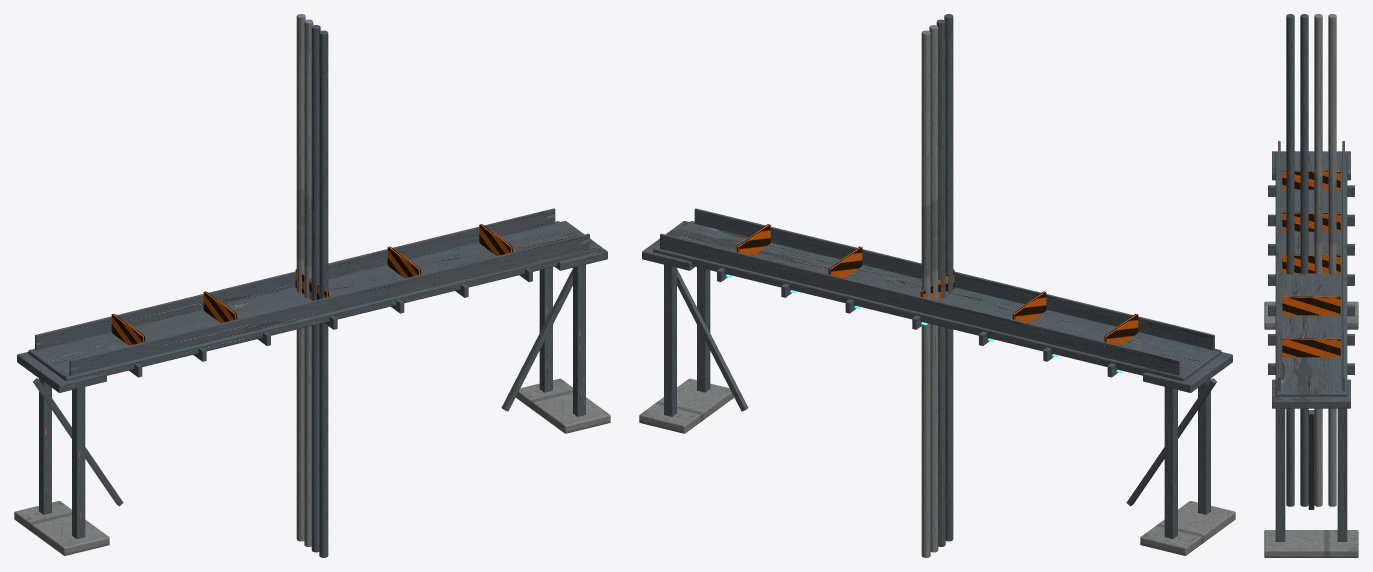
The model's file is overhead_gantry.glb.
The picture shows the model from 3 angles, left to right: view 1: azimuth 30°, elevation 25°; view 2: azimuth 150°, elevation 25°; view 3: azimuth 270°, elevation 25°; orthographic projection. The views are drawn at different scales.
Parts seen in each view (by area): view 1: BridgeDeck, BridgeRail_1.3, BridgeRail_-1.3, OverheadPipe_0.85, OverheadPipe_0.28, OverheadPipe_-0.85, OverheadPipe_-0.28, GantryFoot_-10.9, GantryFoot_10.9, GantryColumn_-10.91.25, GantryColumn_10.91.25, GantryColumn_-10.9-1.25 (+5 smaller); view 2: BridgeDeck, BridgeRail_-1.3, BridgeRail_1.3, OverheadPipe_-0.85, OverheadPipe_-0.28, OverheadPipe_0.85, OverheadPipe_0.28, GantryFoot_-10.9, GantryFoot_10.9, GantryColumn_-10.9-1.25, GantryColumn_10.9-1.25, GantryColumn_-10.91.25 (+5 smaller); view 3: BridgeDeck, OverheadPipe_-0.28, OverheadPipe_-0.85, OverheadPipe_0.28, OverheadPipe_0.85, GantryFoot_10.9, GantryColumn_10.9-1.25, GantryColumn_10.91.25, PipeBrace_4, PipeBrace_8, GantryTowerCap_10.9, BridgeRail_-1.3 (+14 smaller).
Boxes of the visible parts, bbox=[...] form: BridgeDeck: bbox=[28, 221, 596, 381]; BridgeRail_1.3: bbox=[69, 233, 589, 375]; BridgeRail_-1.3: bbox=[35, 208, 555, 350]; OverheadPipe_0.85: bbox=[319, 30, 328, 557]; OverheadPipe_0.28: bbox=[311, 25, 320, 552]; OverheadPipe_-0.85: bbox=[296, 14, 305, 541]; OverheadPipe_-0.28: bbox=[304, 19, 313, 546]; GantryFoot_-10.9: bbox=[14, 501, 109, 555]; GantryFoot_10.9: bbox=[515, 378, 610, 433]; GantryColumn_-10.91.25: bbox=[72, 387, 85, 538]; GantryColumn_10.91.25: bbox=[573, 264, 585, 416]; GantryColumn_-10.9-1.25: bbox=[39, 378, 51, 514]; BridgeDeck: bbox=[653, 221, 1221, 381]; BridgeRail_-1.3: bbox=[660, 233, 1180, 375]; BridgeRail_1.3: bbox=[694, 208, 1214, 350]; OverheadPipe_-0.85: bbox=[921, 30, 930, 557]; OverheadPipe_-0.28: bbox=[929, 25, 938, 552]; OverheadPipe_0.85: bbox=[944, 14, 953, 541]; OverheadPipe_0.28: bbox=[936, 19, 945, 546]; GantryFoot_-10.9: bbox=[1140, 501, 1235, 555]; GantryFoot_10.9: bbox=[639, 378, 734, 433]; GantryColumn_-10.9-1.25: bbox=[1164, 387, 1177, 538]; GantryColumn_10.9-1.25: bbox=[664, 264, 676, 416]; GantryColumn_-10.91.25: bbox=[1198, 378, 1210, 514]; BridgeDeck: bbox=[1275, 152, 1347, 396]; OverheadPipe_-0.28: bbox=[1314, 14, 1322, 506]; OverheadPipe_-0.85: bbox=[1328, 14, 1336, 506]; OverheadPipe_0.28: bbox=[1300, 14, 1308, 506]; OverheadPipe_0.85: bbox=[1286, 14, 1294, 506]; GantryFoot_10.9: bbox=[1264, 530, 1358, 557]; GantryColumn_10.9-1.25: bbox=[1337, 408, 1347, 541]; GantryColumn_10.91.25: bbox=[1275, 408, 1285, 541]; PipeBrace_4: bbox=[1282, 296, 1340, 315]; PipeBrace_8: bbox=[1282, 338, 1340, 357]; GantryTowerCap_10.9: bbox=[1272, 379, 1350, 408]; BridgeRail_-1.3: bbox=[1342, 141, 1344, 391].
Bounding box in the file's own units: 24.23 × 21.8 × 3.8.
5 materials, 5 textured.
